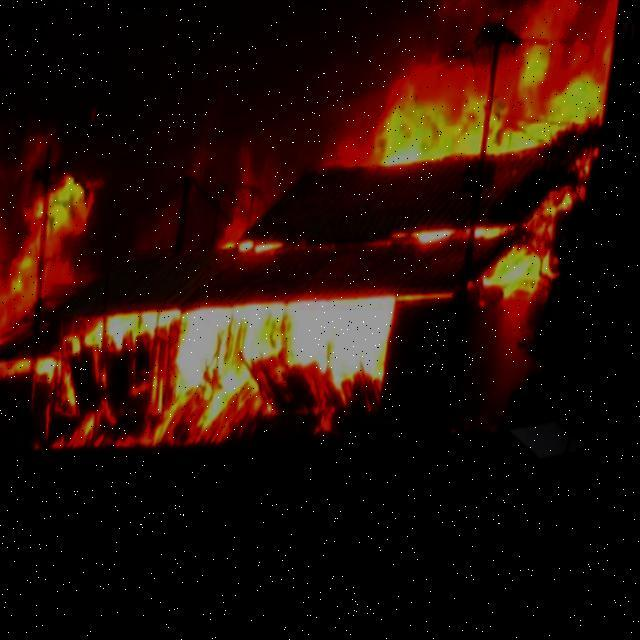Fire: (370, 1, 618, 168), (178, 292, 409, 428), (0, 180, 106, 354), (474, 198, 580, 302), (70, 306, 188, 357), (0, 362, 95, 412), (227, 237, 291, 260), (398, 223, 462, 246), (91, 412, 110, 437)
